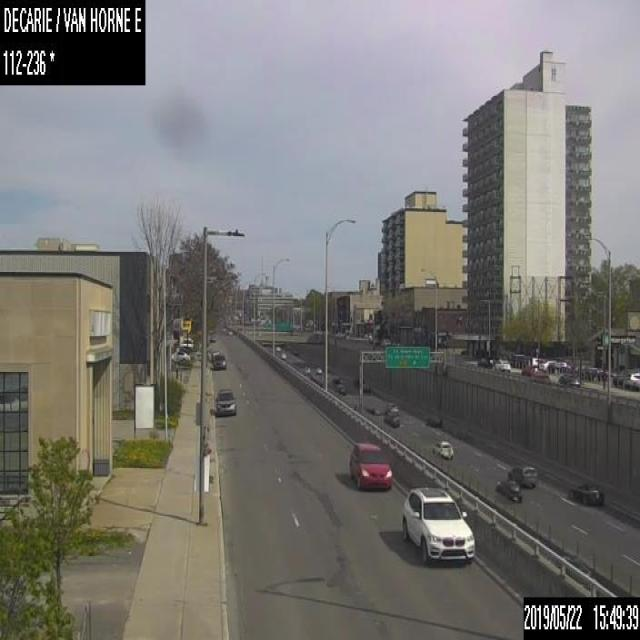vehicle: (400, 485, 475, 564), (348, 441, 393, 491), (566, 481, 603, 504), (508, 464, 536, 487), (494, 479, 520, 503), (216, 388, 235, 416), (431, 440, 453, 458), (556, 372, 581, 387), (170, 349, 189, 361), (383, 412, 399, 426), (424, 414, 442, 426), (520, 364, 537, 376), (212, 354, 225, 369), (494, 359, 510, 371), (540, 359, 555, 371), (477, 356, 492, 368), (332, 376, 344, 390), (385, 402, 399, 413), (625, 372, 639, 383), (209, 348, 220, 360), (361, 382, 370, 393), (380, 337, 390, 346), (301, 364, 309, 374), (314, 364, 322, 373), (278, 350, 285, 359), (209, 334, 216, 341), (225, 328, 232, 334), (275, 344, 280, 350)
